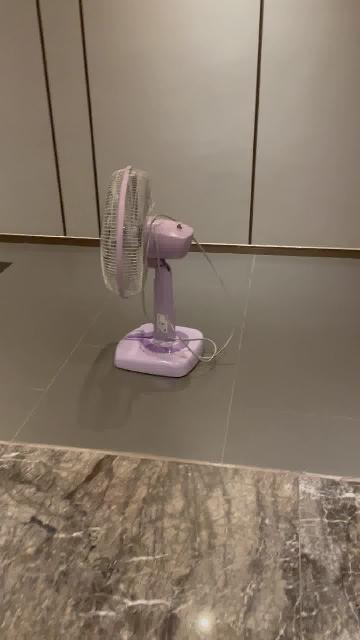Fan: (100, 166, 204, 378)
